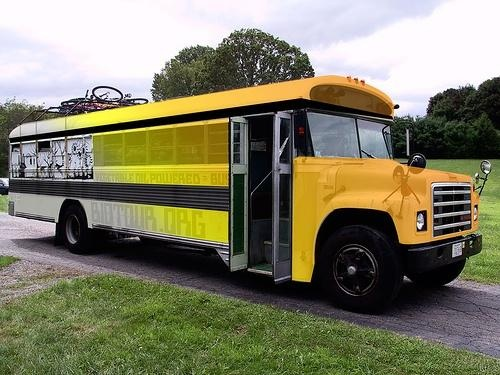bus: (8, 76, 486, 312)
